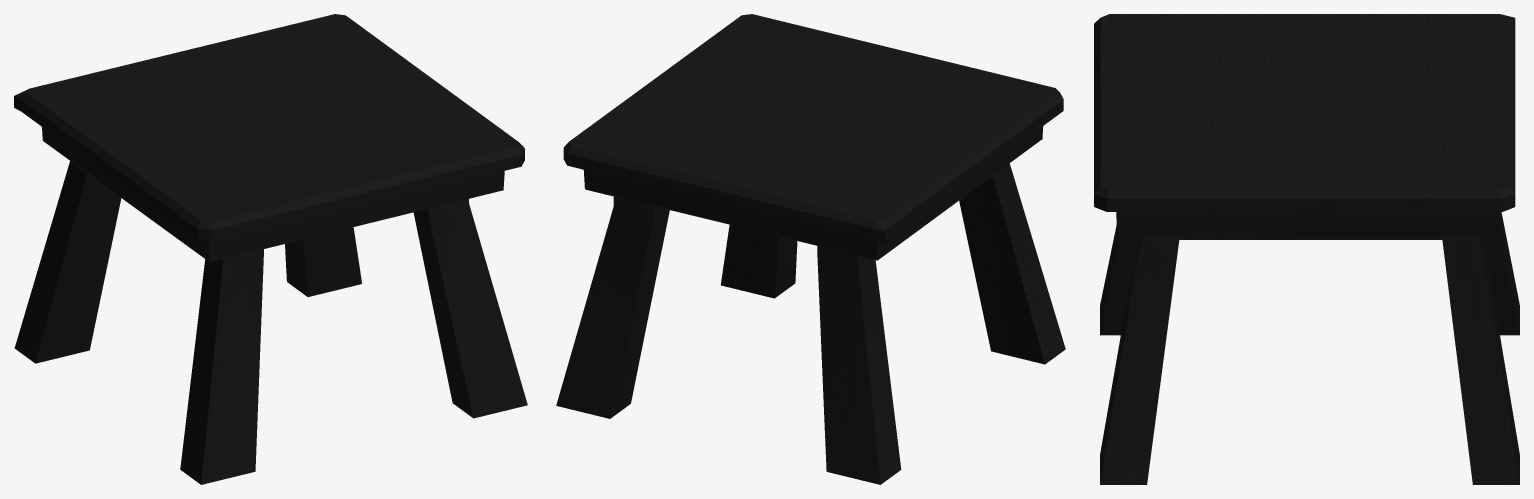
Rendered from Stool_A.FBX.
The picture shows the model from 3 angles, left to right: view 1: azimuth 30°, elevation 25°; view 2: azimuth 150°, elevation 25°; view 3: azimuth 270°, elevation 25°; orthographic projection. The views are drawn at different scales.
Parts seen in each view (by area): view 1: Stool; view 2: Stool; view 3: Stool.
Boxes of the visible parts, <box> form: Stool: <box>14,14,527,484</box>; Stool: <box>556,14,1065,484</box>; Stool: <box>1094,14,1519,484</box>.
Size of the model in its own units: 121 by 91.5 by 120.
